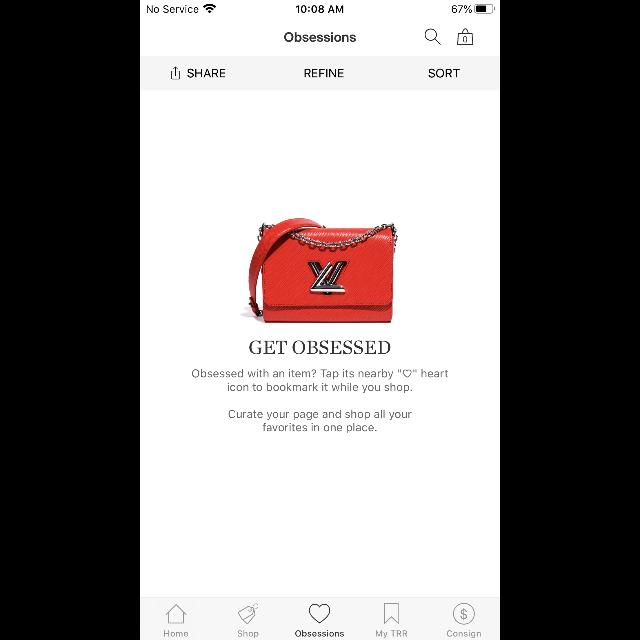icon: (166, 604, 187, 624), (454, 604, 474, 624), (310, 604, 330, 624), (238, 604, 258, 624), (384, 602, 398, 624), (425, 29, 441, 45), (172, 66, 180, 80)
image: (240, 218, 398, 322)
text: (192, 369, 448, 393), (229, 410, 411, 432), (250, 341, 390, 355), (284, 32, 356, 42), (188, 68, 226, 78), (305, 69, 345, 77), (428, 68, 459, 78), (296, 630, 344, 636), (447, 630, 481, 638), (457, 29, 473, 45), (376, 630, 406, 638), (238, 630, 258, 638), (164, 630, 188, 636)
uppertaskbar: (140, 0, 500, 14)
